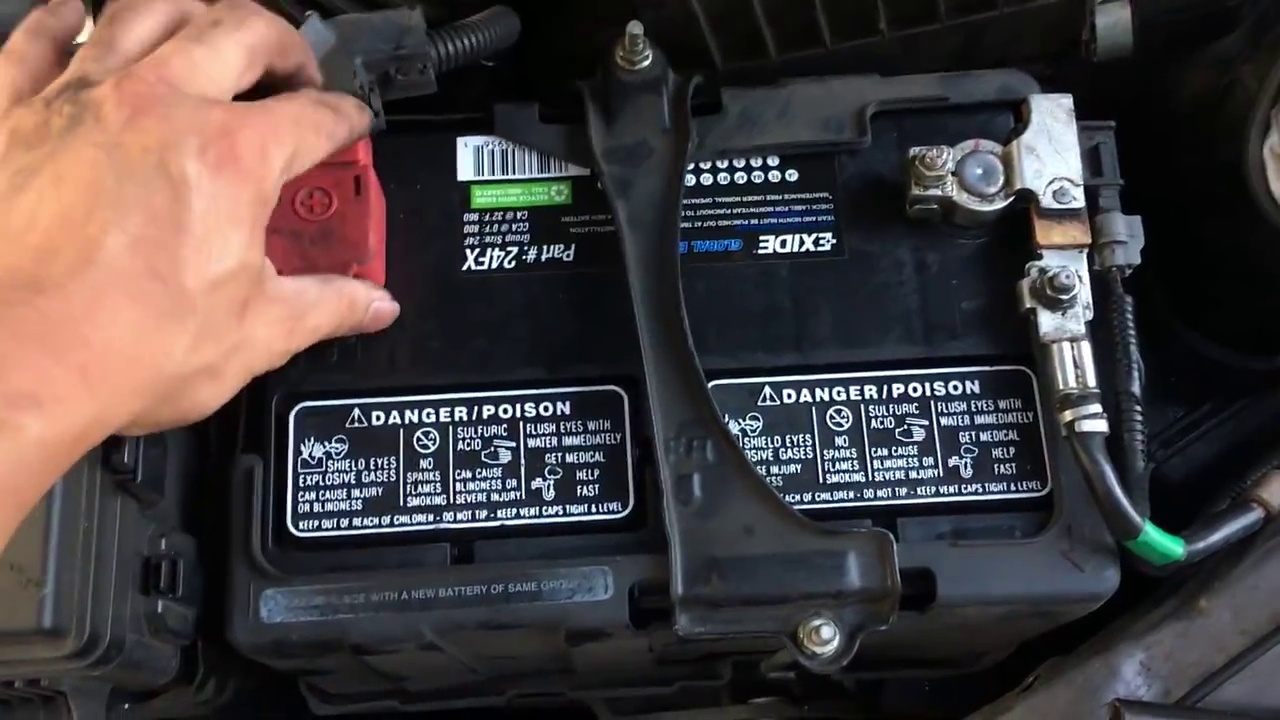battery: (194, 76, 1139, 616)
neg_connected: (883, 77, 1114, 244)
pos_touched: (167, 67, 412, 352)
